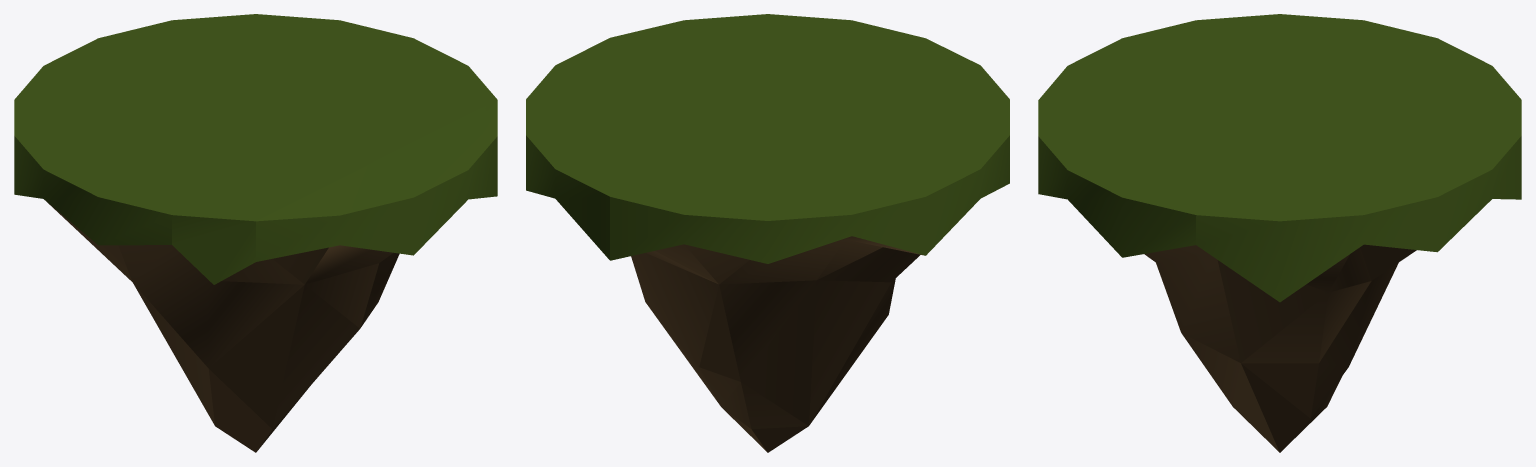
Rendered from Island.fbx.
3 renders of one model, left to right at view 1: azimuth 30°, elevation 25°; view 2: azimuth 150°, elevation 25°; view 3: azimuth 270°, elevation 25°, orthographic.
Parts seen in each view (by area): view 1: Grass, ground; view 2: Grass, ground; view 3: Grass, ground.
Part boxes in pixels (x1,y1,x2,y2): Grass: [14, 14, 497, 284]; ground: [46, 201, 399, 452]; Grass: [526, 14, 1009, 263]; ground: [631, 236, 922, 452]; Grass: [1038, 14, 1521, 302]; ground: [1144, 244, 1416, 452].
Size of the model in its own units: 1820 by 1373 by 1793.
